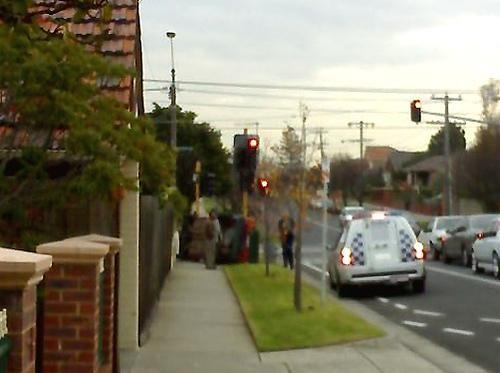car: (326, 204, 428, 298), (440, 214, 499, 266), (417, 216, 465, 260), (469, 218, 500, 279), (308, 196, 322, 210)
